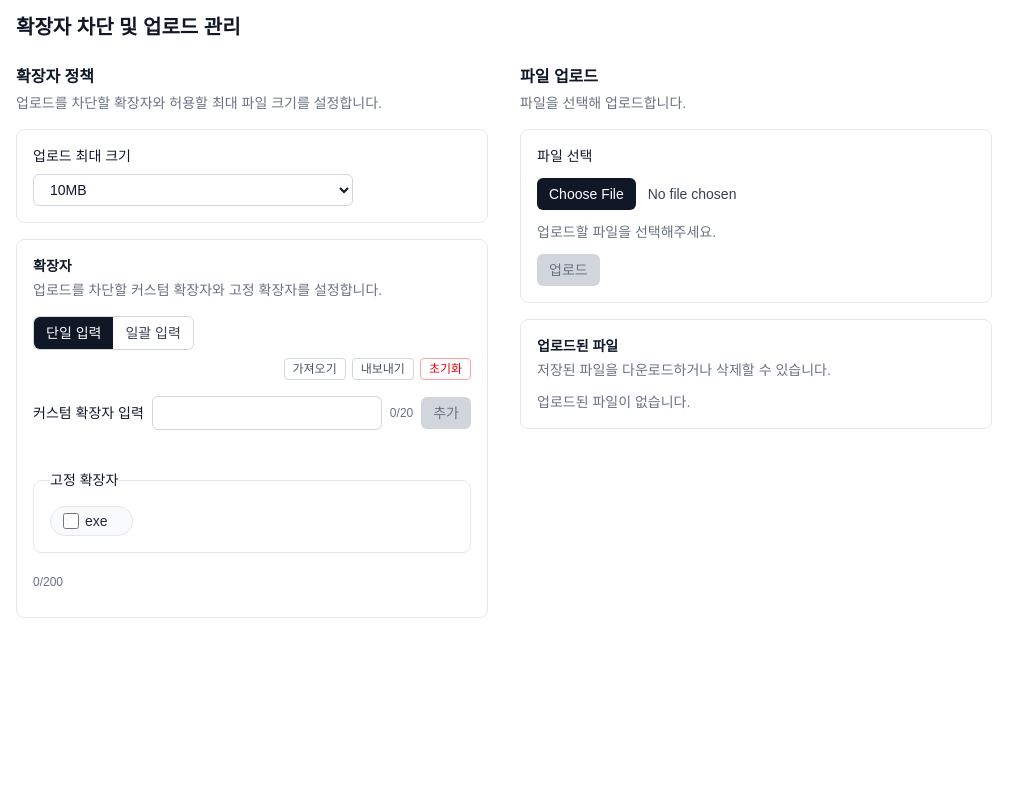
Scenario: 메인 화면 › 커스텀 확장자 입력이 고정 확장자와 겹치면 실제 화면에서 해당 고정 확장자 체크박스로 포커스가 이동하고 토스트가 표시된다
Type "exe" into the field labelled "커스텀 확장자 입력".
click(267, 413); type("exe")  # box x1=152 y1=396 x2=382 y2=430
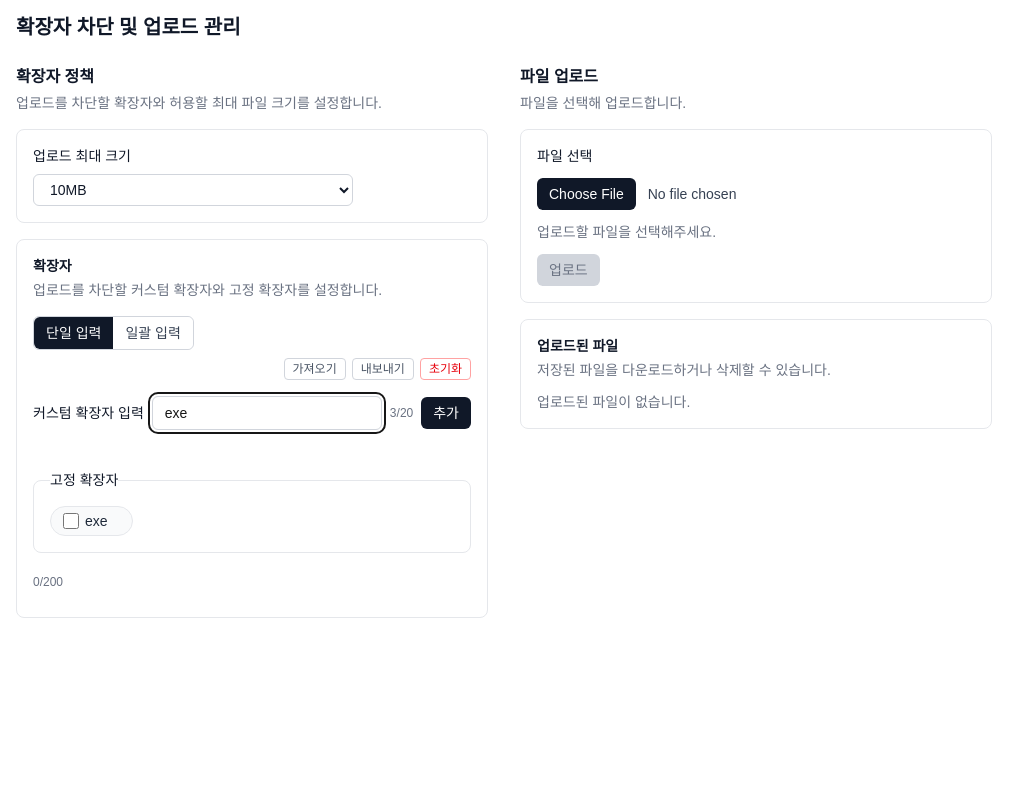
Click the button "추가".
click(446, 413)  # box x1=421 y1=397 x2=471 y2=429
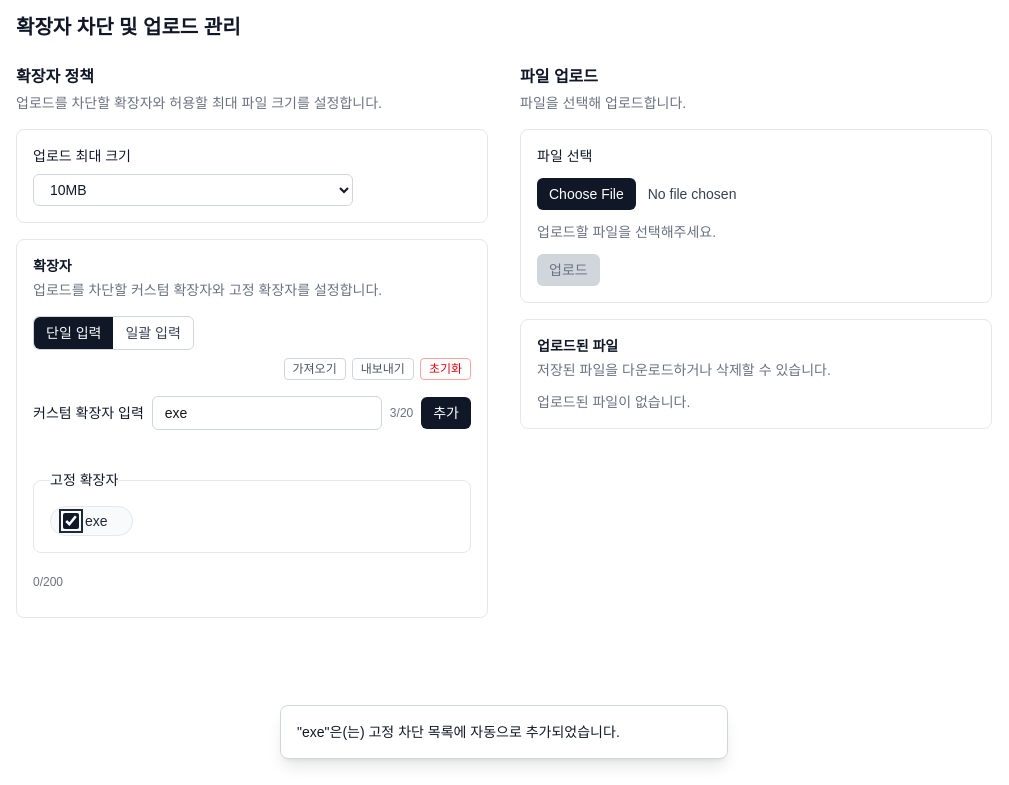
Expected: the text "\"exe\"은(는) 고정 차단 목록에 자동으로 추가되었습니다." is shown, x1=297 y1=722 x2=620 y2=742
Expected: the checkbox labelled "exe" is checked, x1=63 y1=513 x2=79 y2=529
